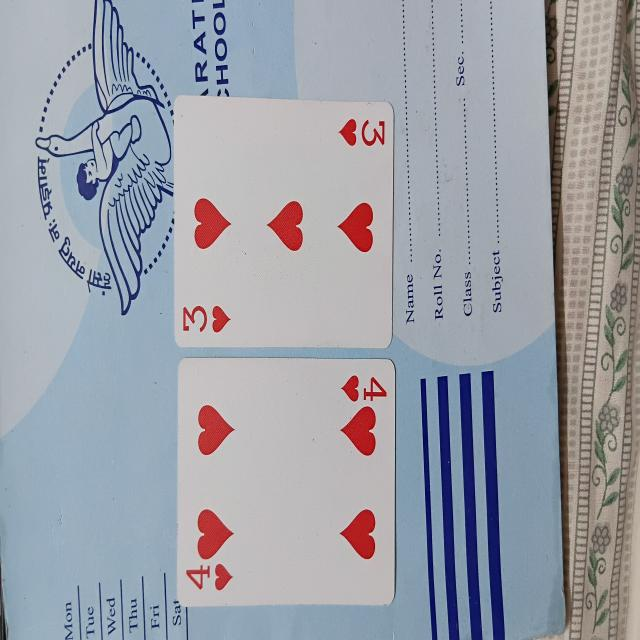3H: (174, 100, 394, 350)
4H: (176, 356, 396, 606)
